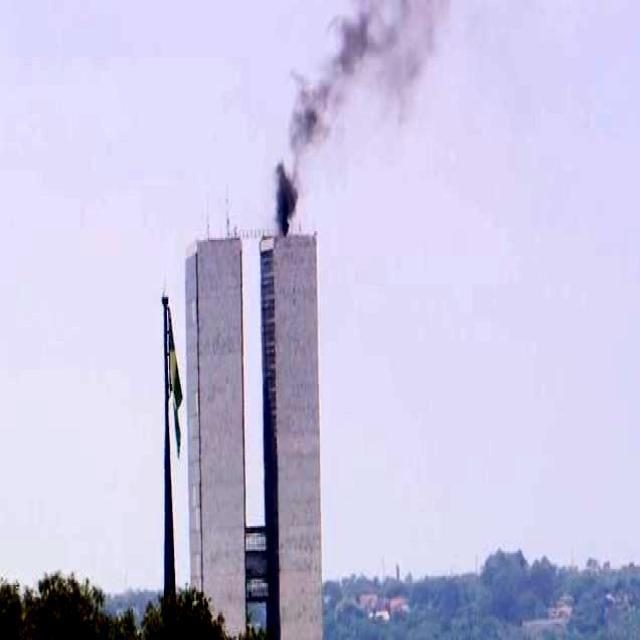Smoke: (290, 6, 376, 148), (270, 154, 299, 240)
